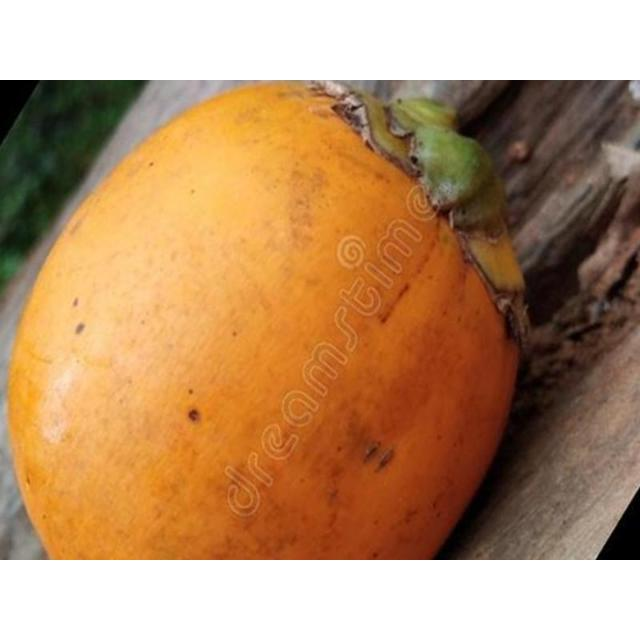good: (3, 80, 523, 559)
